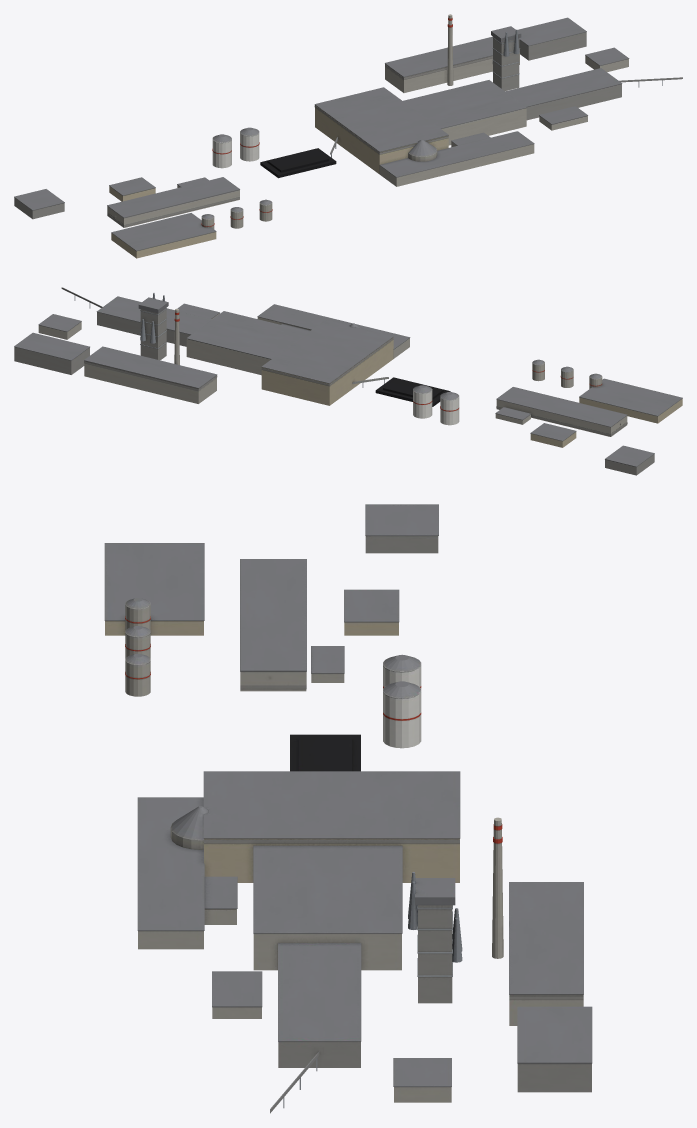
Rendered from cement_zaklad.glb.
3 views of the same model, one above another, from view 1: azimuth 30°, elevation 25°; view 2: azimuth 150°, elevation 25°; view 3: azimuth 270°, elevation 25° (orthographic). The views are drawn at different scales.
Parts seen in each view (by area): view 1: cement_zaklad; view 2: cement_zaklad; view 3: cement_zaklad.
Boxes of the visible parts, box(x1,y1,x2,y2) form: cement_zaklad: box(14, 14, 682, 258); cement_zaklad: box(14, 287, 682, 475); cement_zaklad: box(104, 504, 592, 1113).
Bounding box in the file's own units: 993 × 105 × 340.
1 material, 1 textured.
